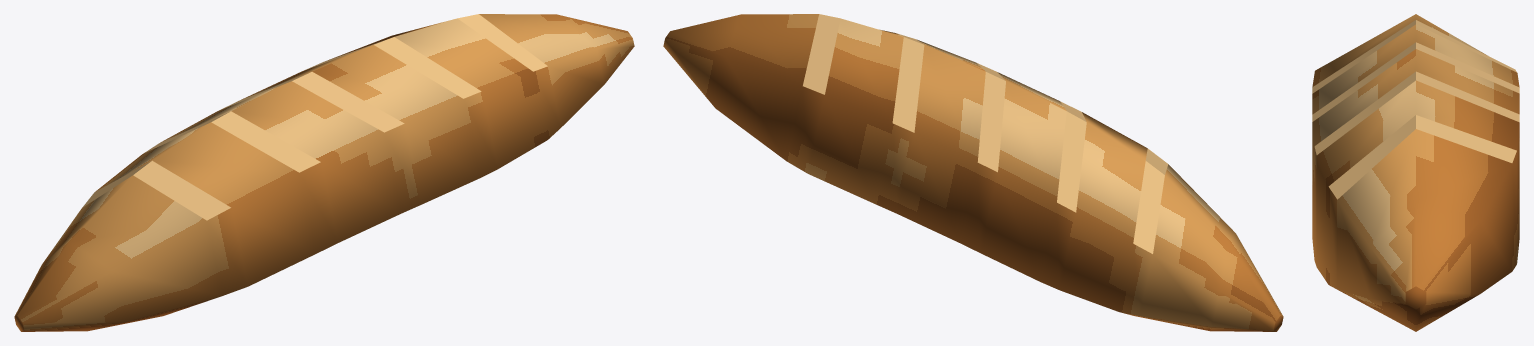
Rendered from produce-baguette.glb.
The picture shows the model from 3 angles, left to right: view 1: azimuth 30°, elevation 25°; view 2: azimuth 150°, elevation 25°; view 3: azimuth 270°, elevation 25°; orthographic projection. The views are drawn at different scales.
Visible parts, largest first — view 1: produce.baguette; view 2: produce.baguette; view 3: produce.baguette.
Part boxes in pixels (x1,y1,x2,y2): produce.baguette: [14, 14, 634, 331]; produce.baguette: [663, 14, 1283, 331]; produce.baguette: [1312, 14, 1519, 331].
Size of the model in its own units: 1.94 by 0.6826 by 0.4553.
2 materials, 1 textured.
